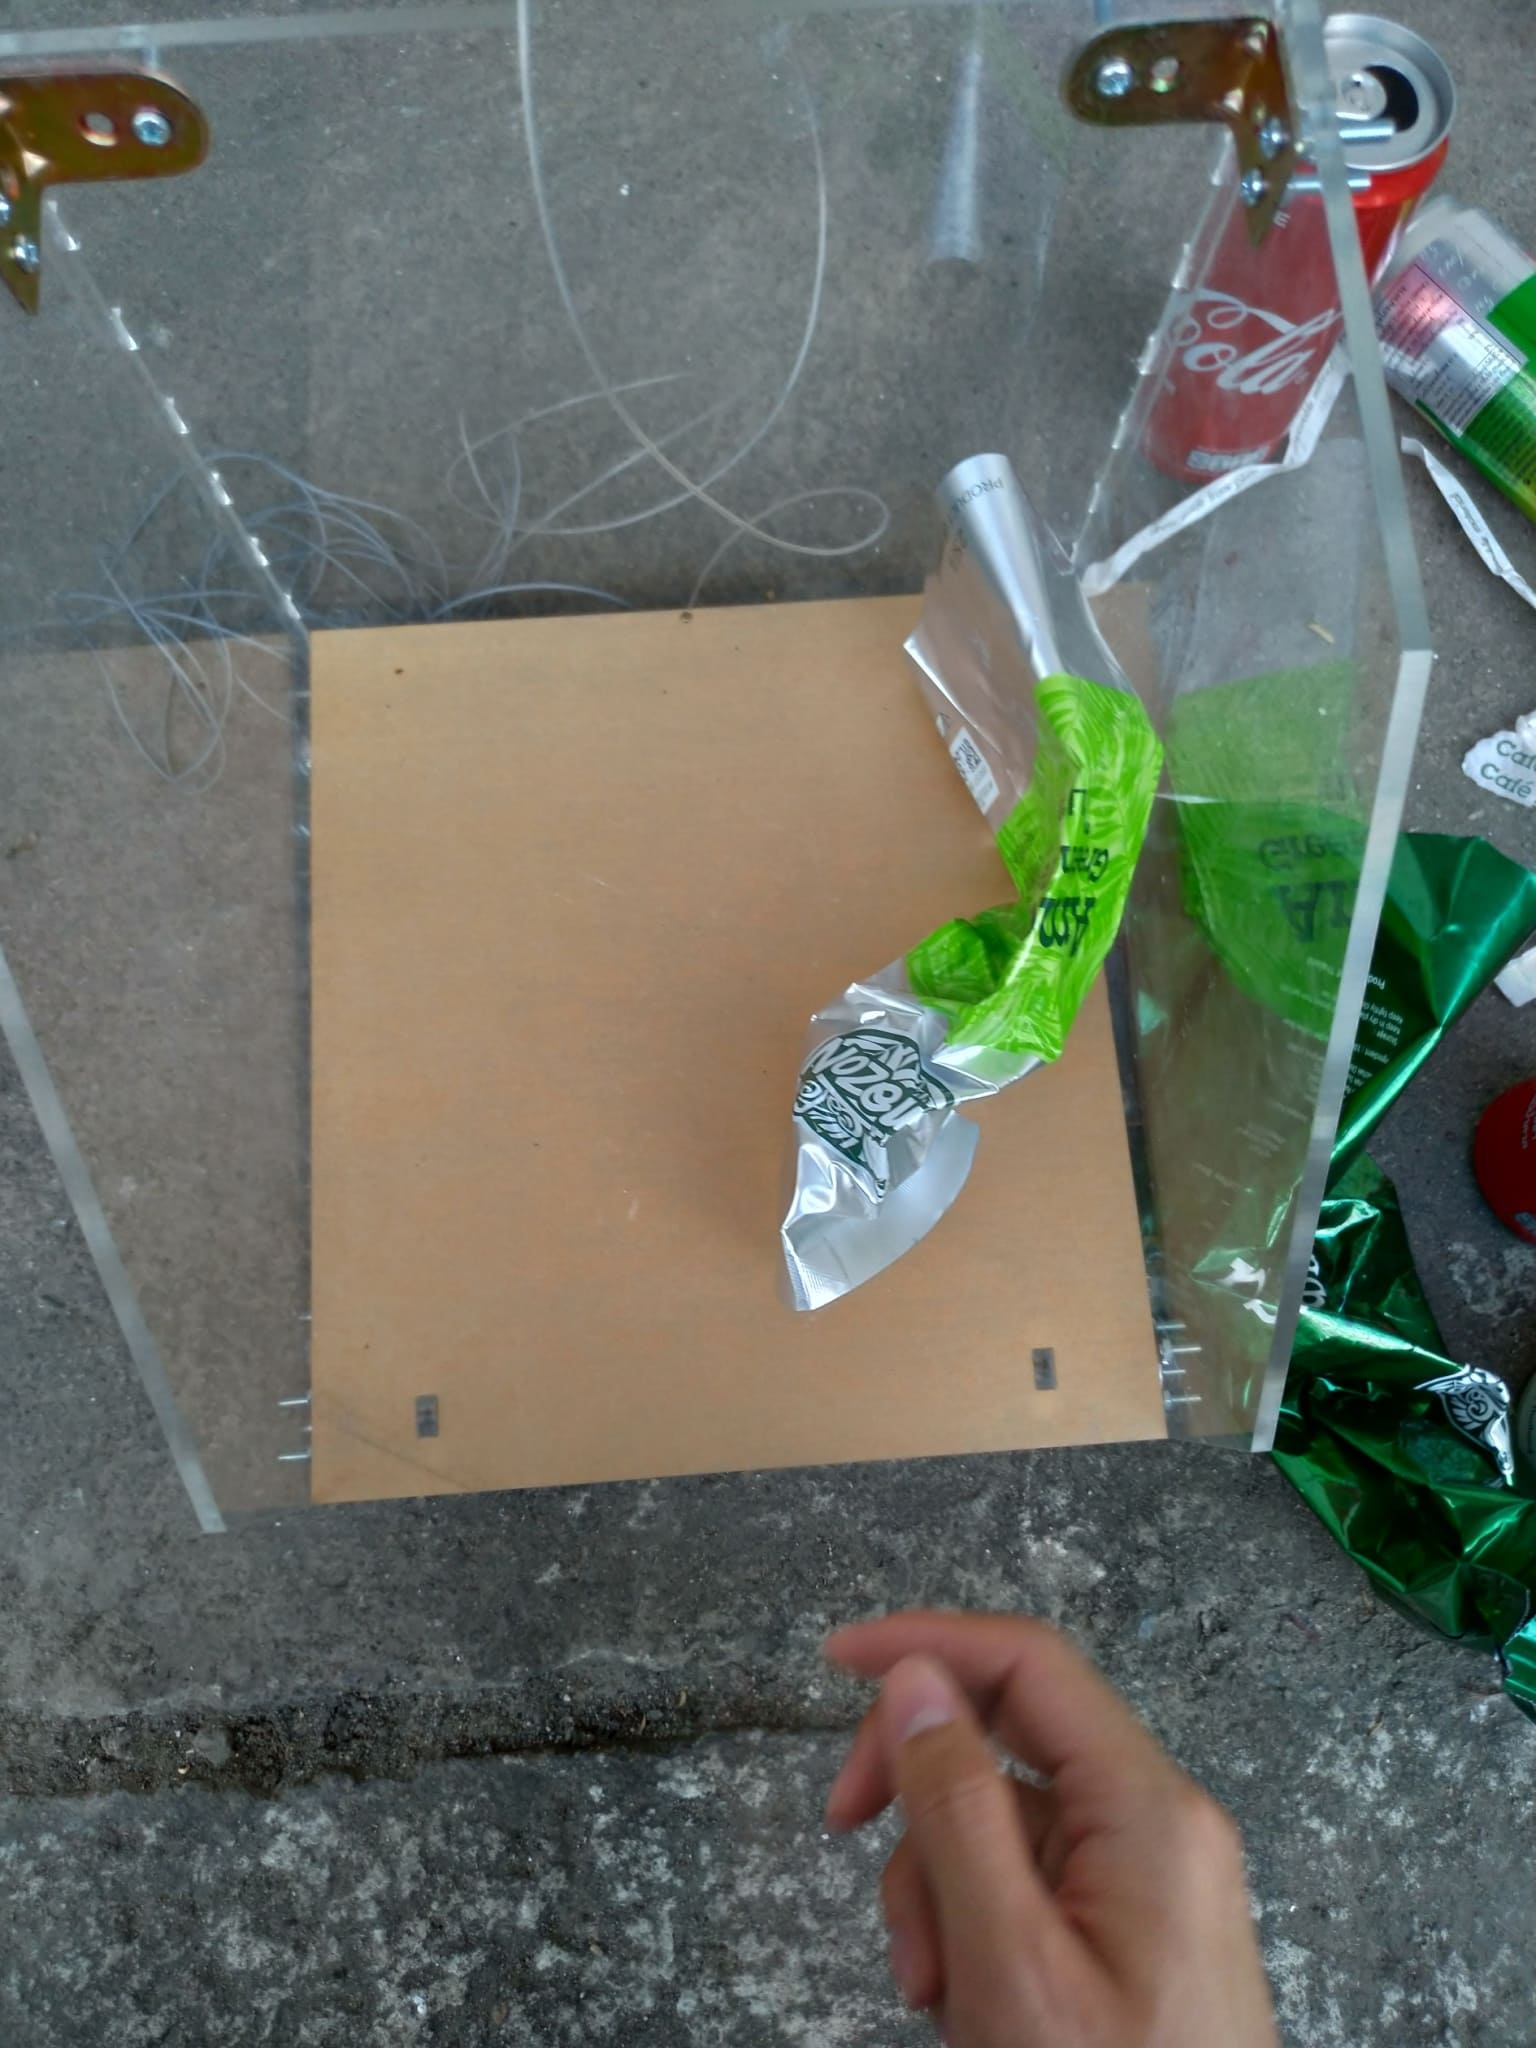AlCan: (1147, 15, 1457, 477), (1368, 173, 1536, 502)
Others: (1141, 785, 1536, 1687), (774, 448, 1163, 1314)
